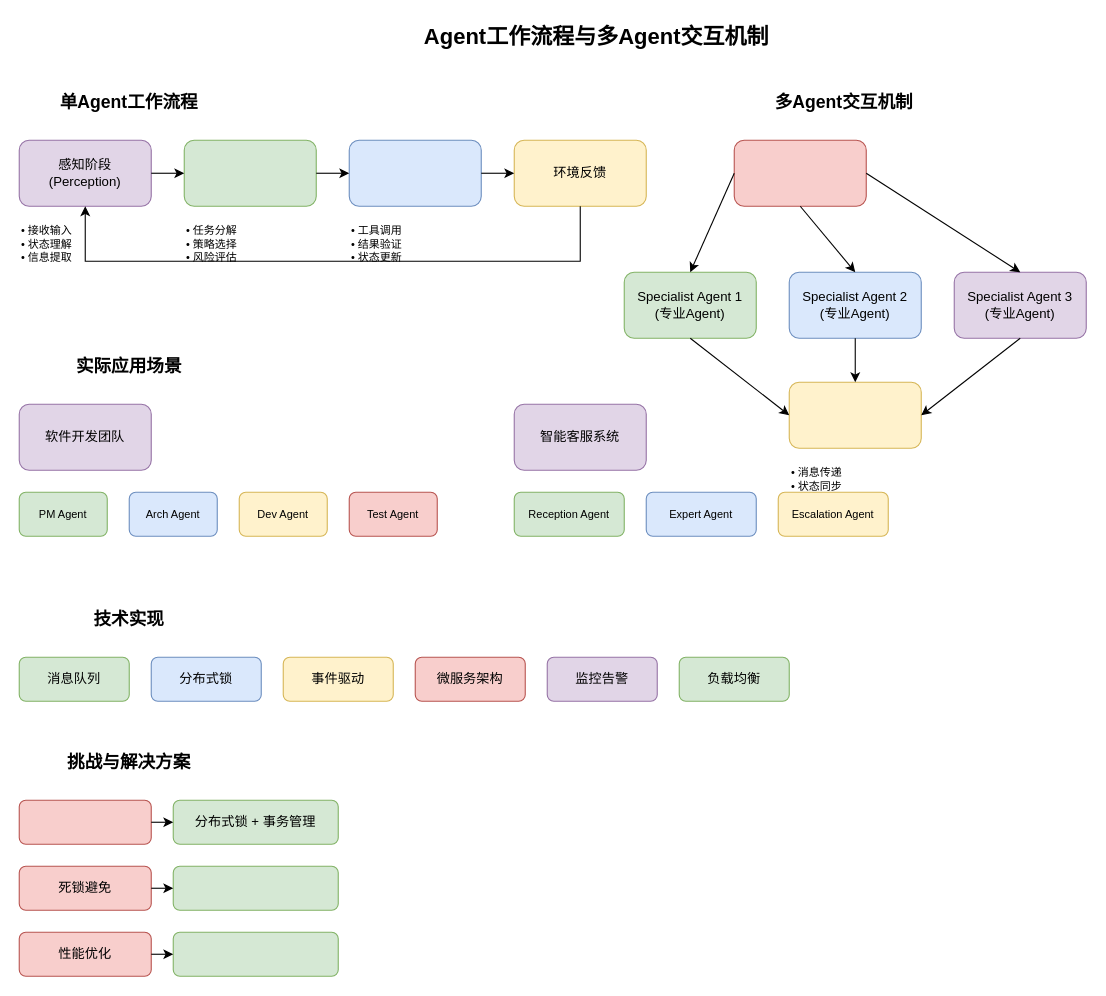
Image size: 1106x996. Some labels were removed from this diagram. Here are the shapes that lost their labels. From the top down, the centre of each, then its label:
At pixel 249 172: "决策阶段 (Decision)".
At pixel 414 172: "执行阶段 (Action)".
At pixel 799 172: "Coordinator Agent (协调者)".
At pixel 854 414: "通信机制".
At pixel 84 821: "状态一致性".
At pixel 255 887: "资源分配图 + 超时机制".
At pixel 255 953: "异步处理 + 连接池".
